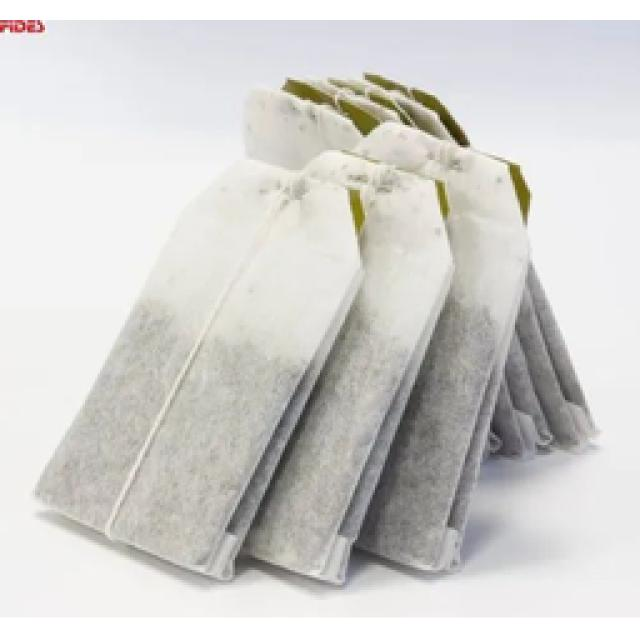tea-bags: (28, 68, 603, 586), (30, 157, 364, 582), (240, 149, 456, 586), (353, 121, 531, 572)
